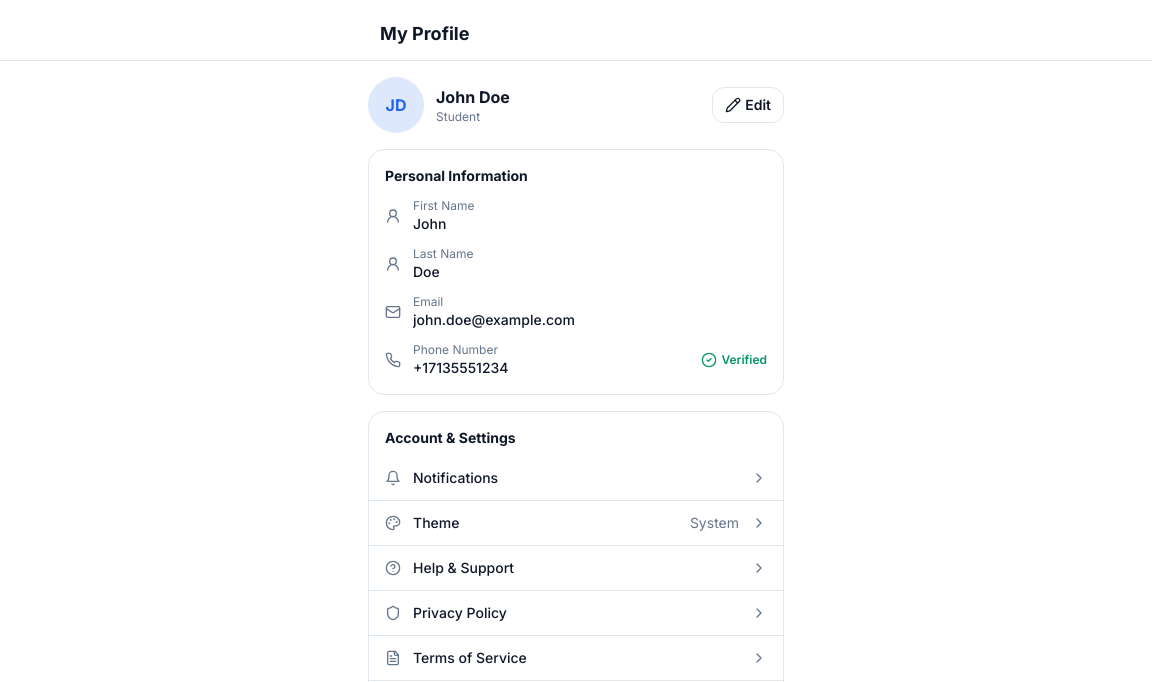
StudentProfilePage › Edit button opens the Coming Soon dialog
What coordinates should you click on to do the following:
click the button "Edit"
I would click on:
 (748, 105)
Its box is [712,87,784,123].
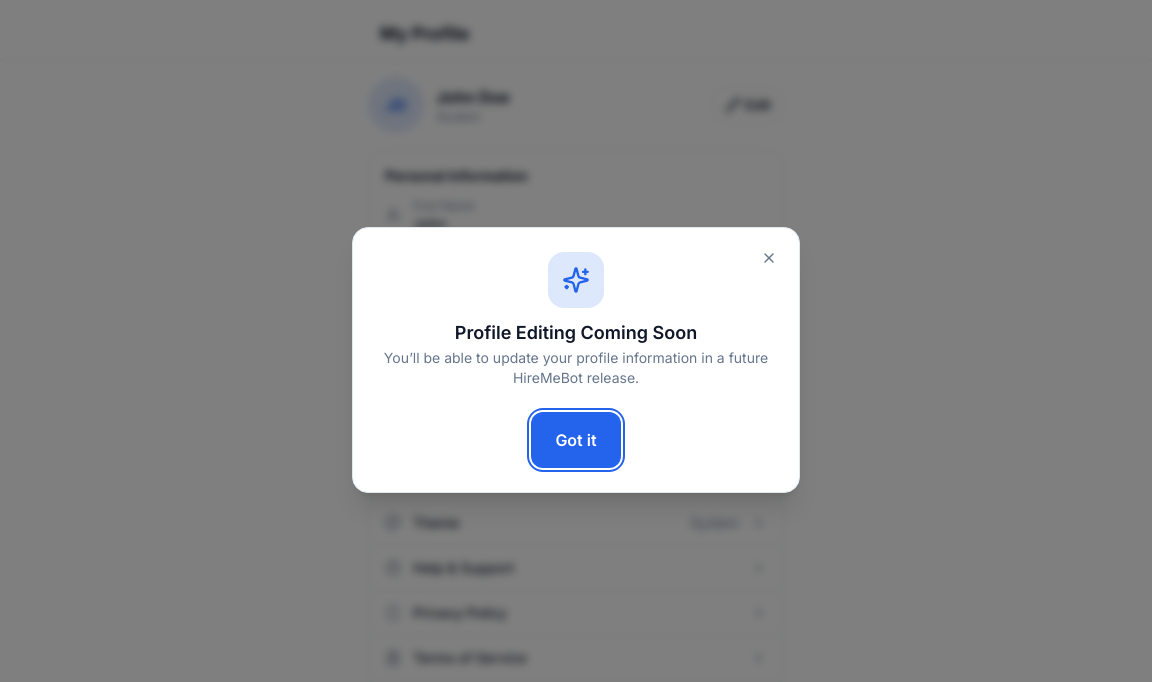
expect the heading "Profile Editing Coming Soon" is shown: met, box [455,322,697,343]
